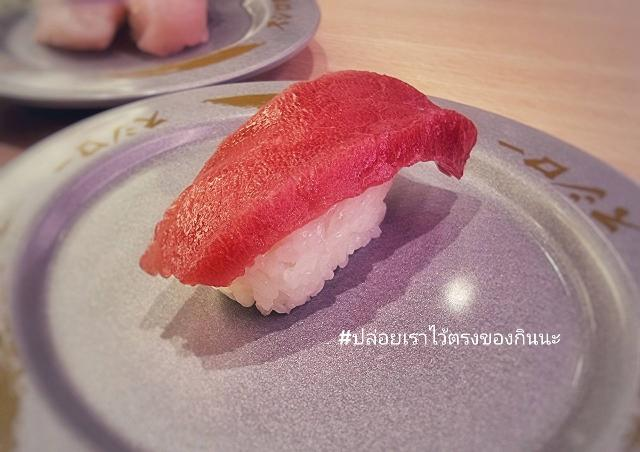janback: (0, 6, 316, 85)
